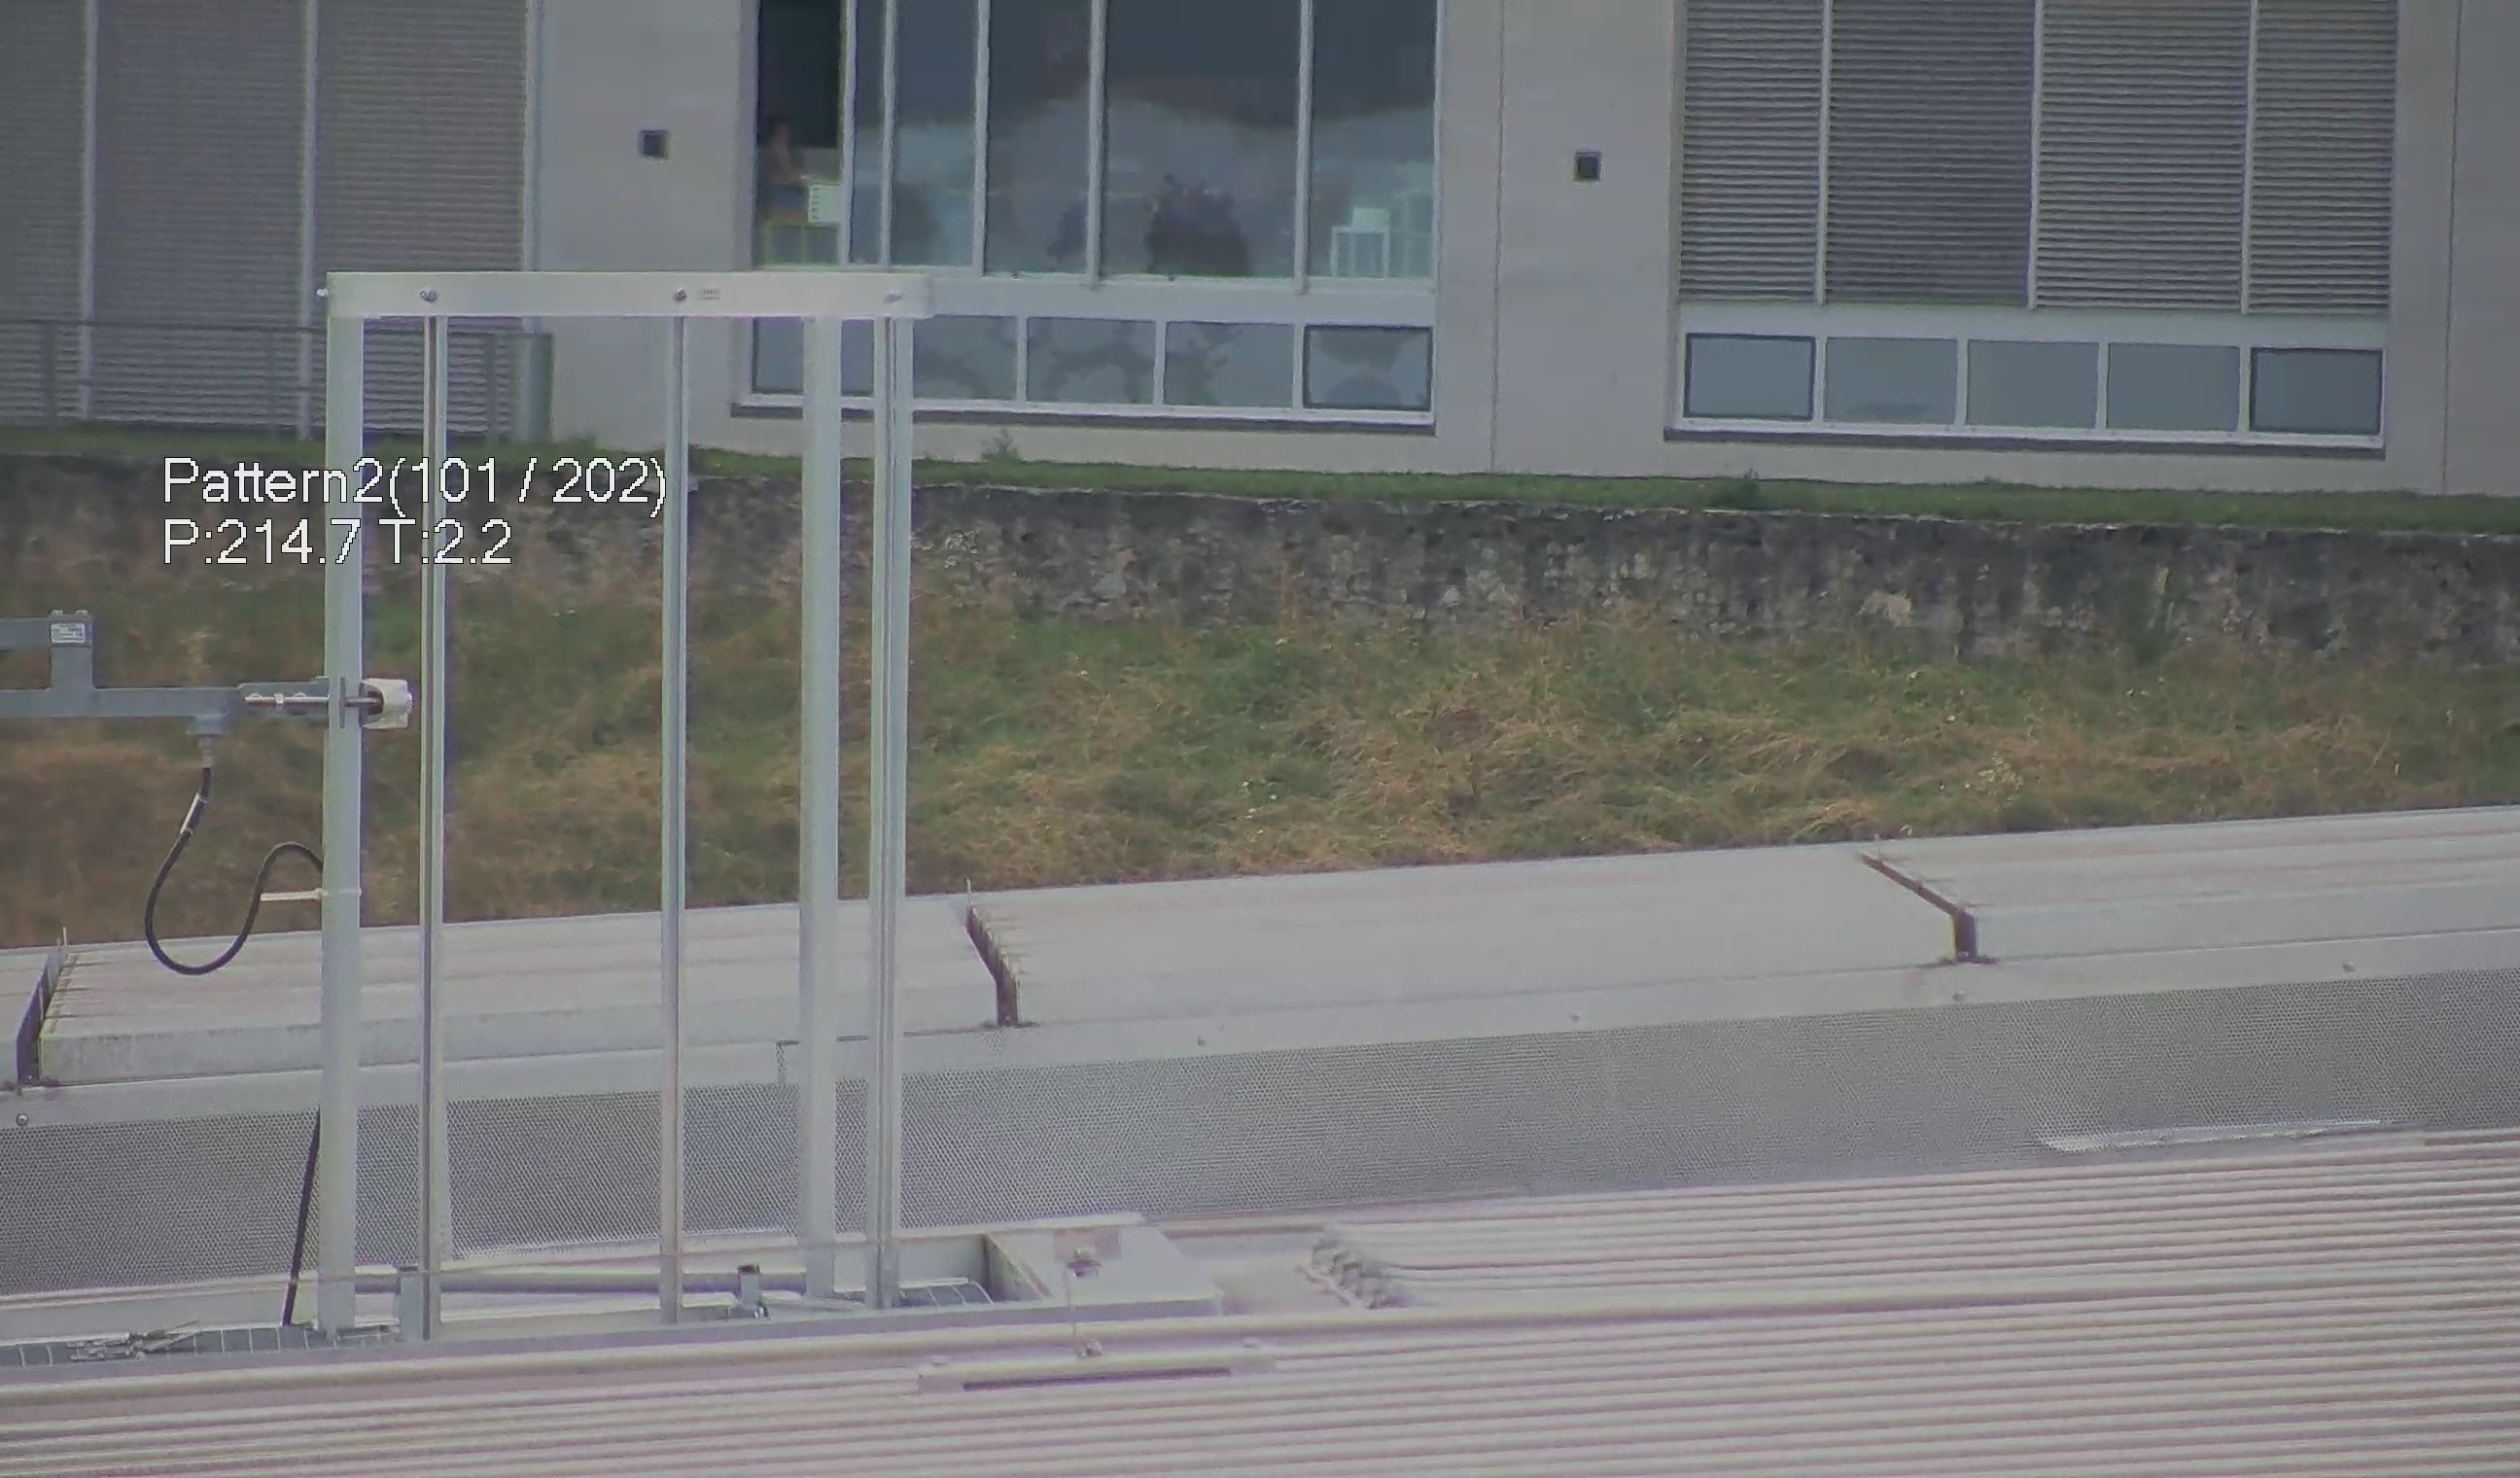Other: (936, 876, 1039, 1035)
